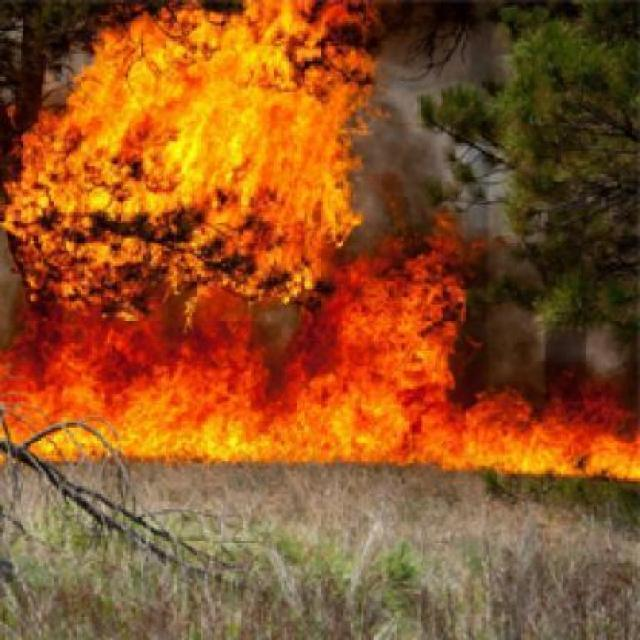Fire: (8, 0, 523, 580)
